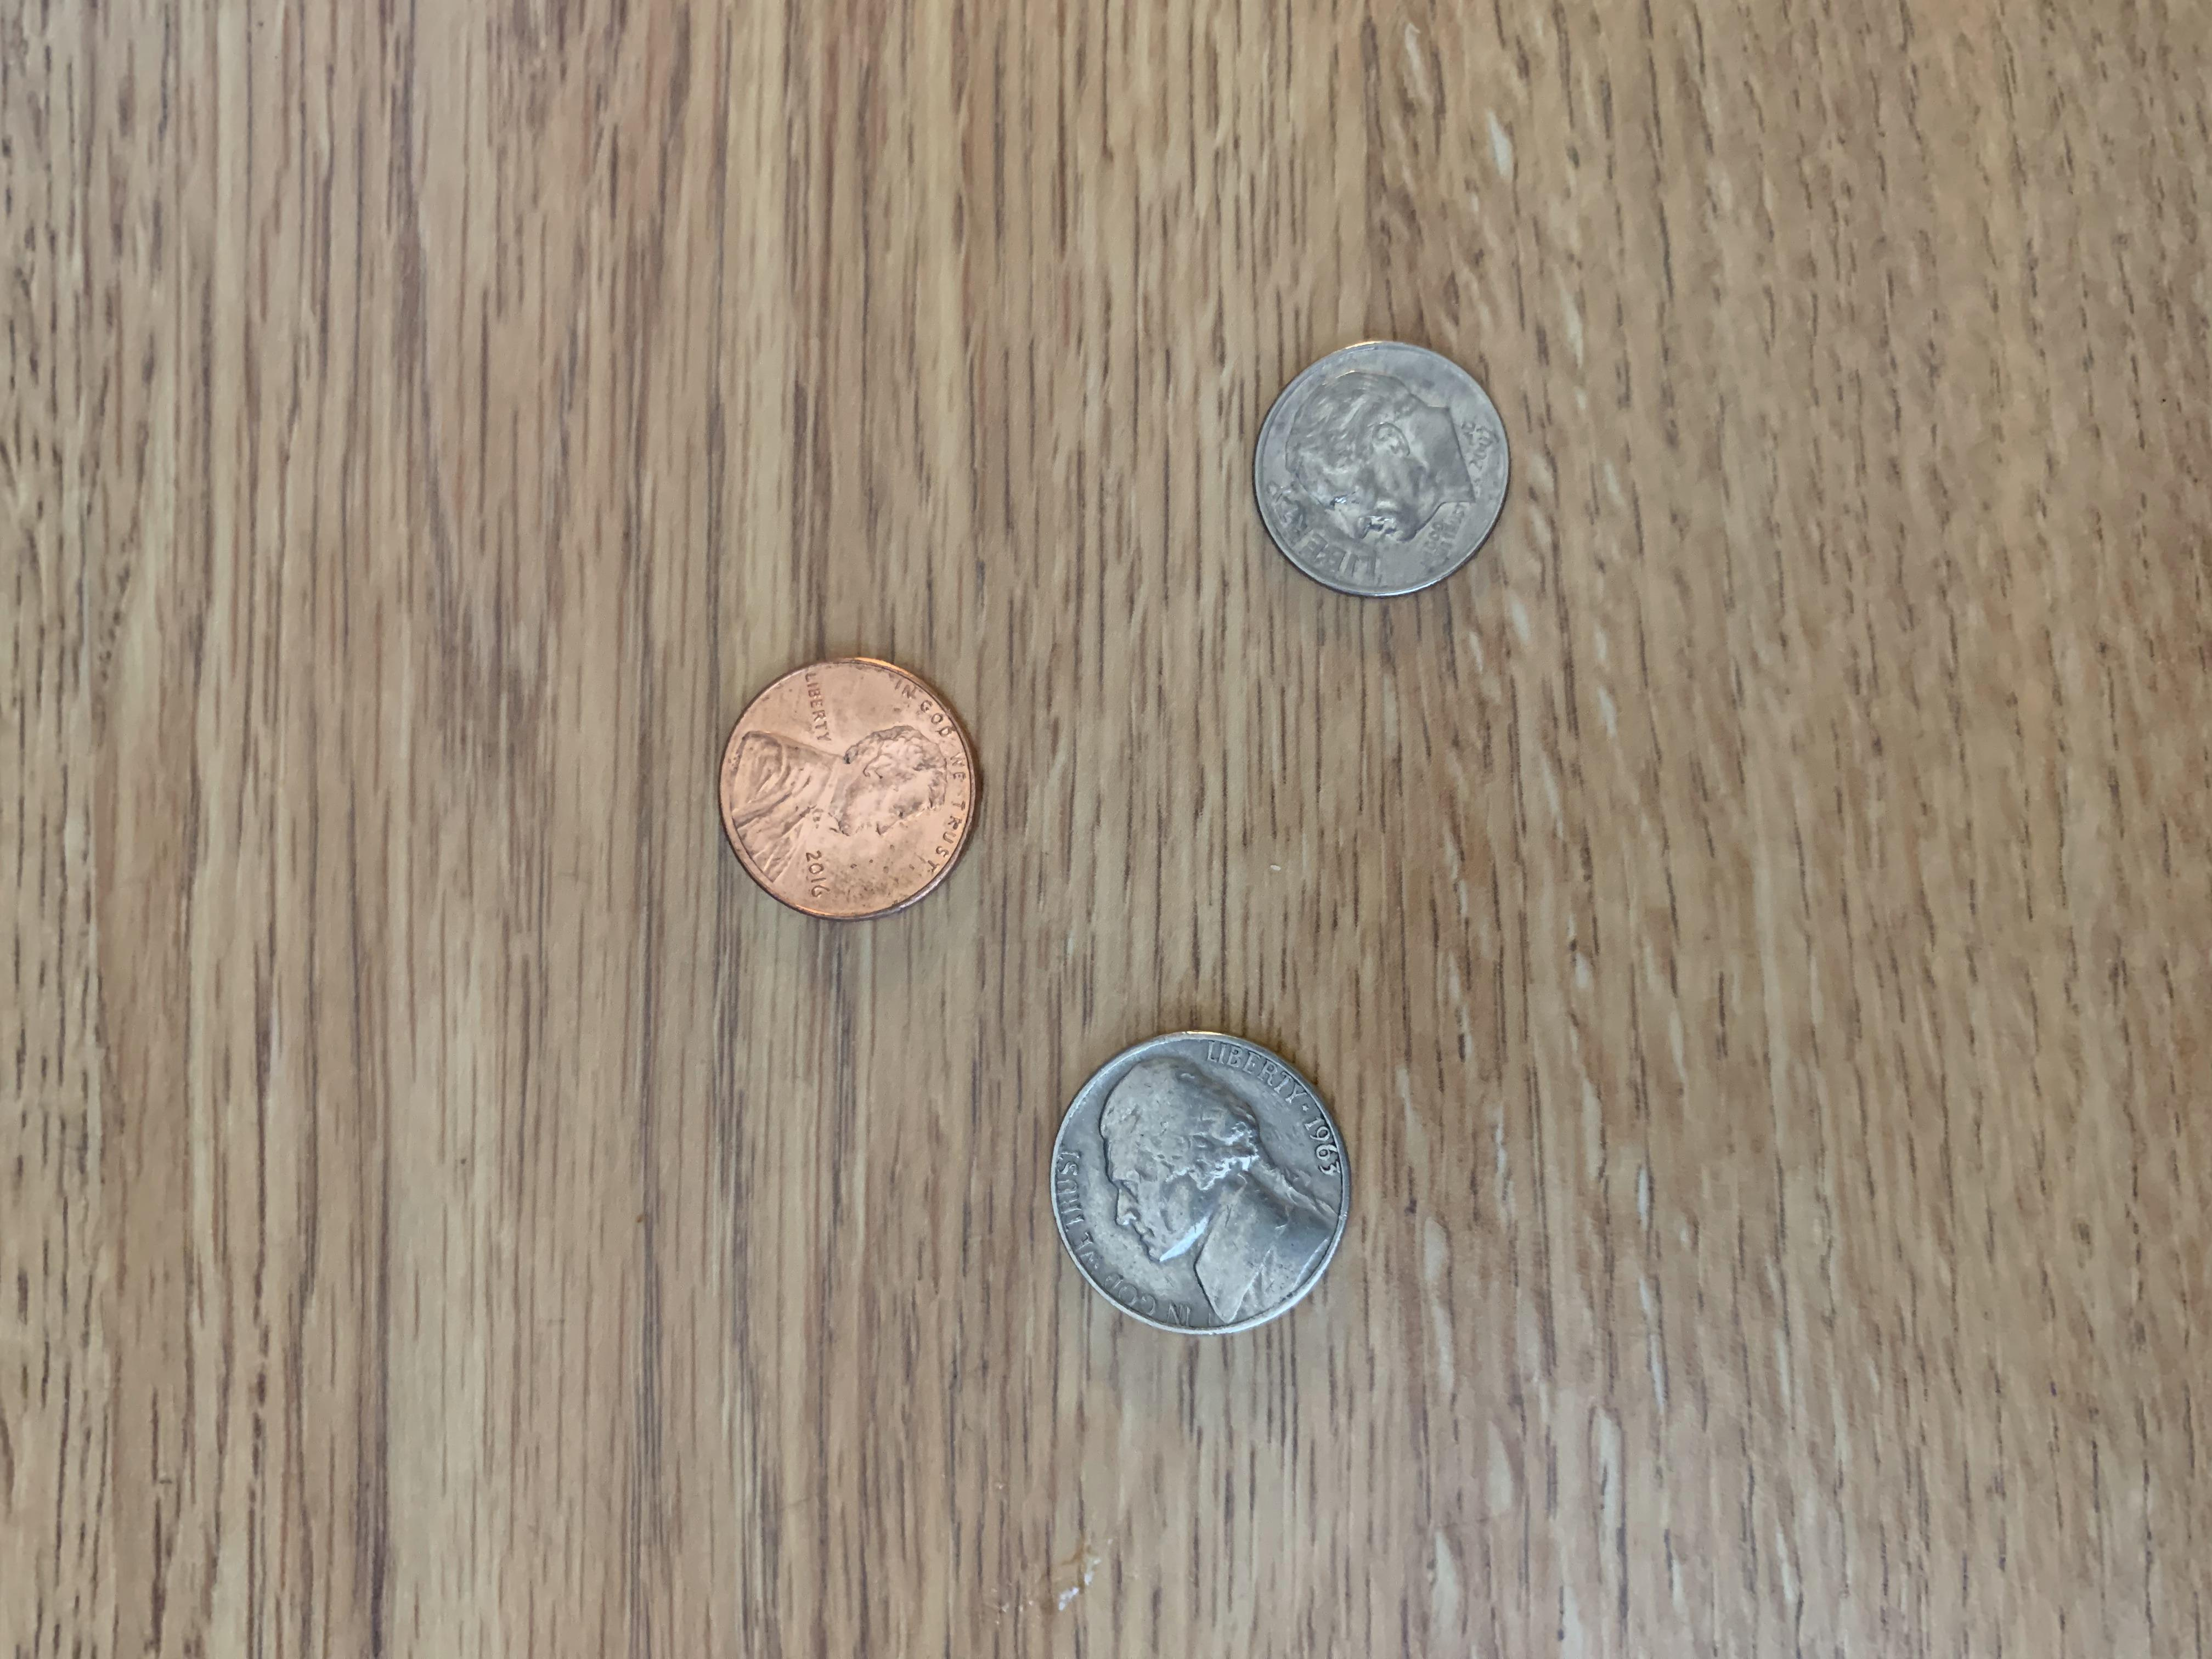Dime: (1244, 333, 1524, 608)
Nickel: (1029, 1021, 1366, 1345)
Penny: (700, 645, 993, 932)
